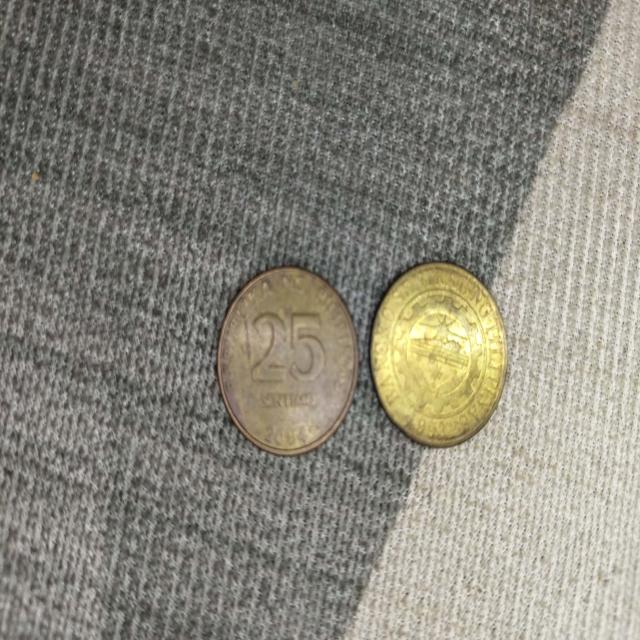25 cents-old: (217, 250, 360, 460), (370, 262, 508, 443)
